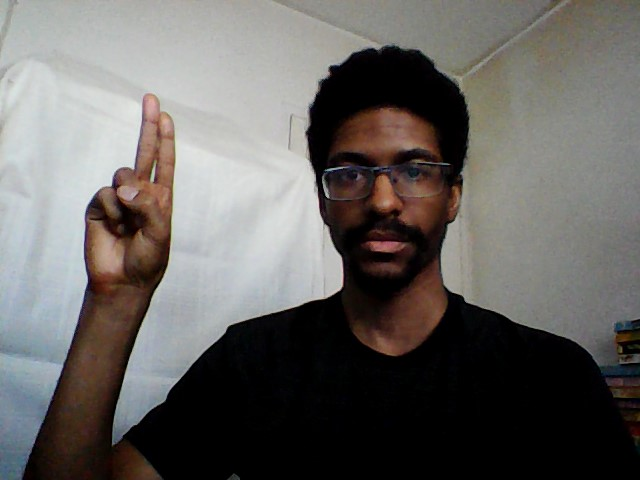u: (79, 87, 182, 291)
